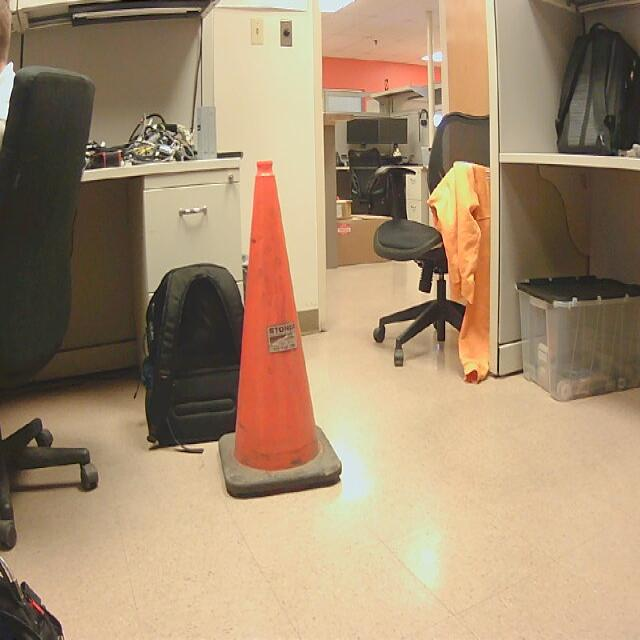traffic cone: (220, 161, 343, 502)
